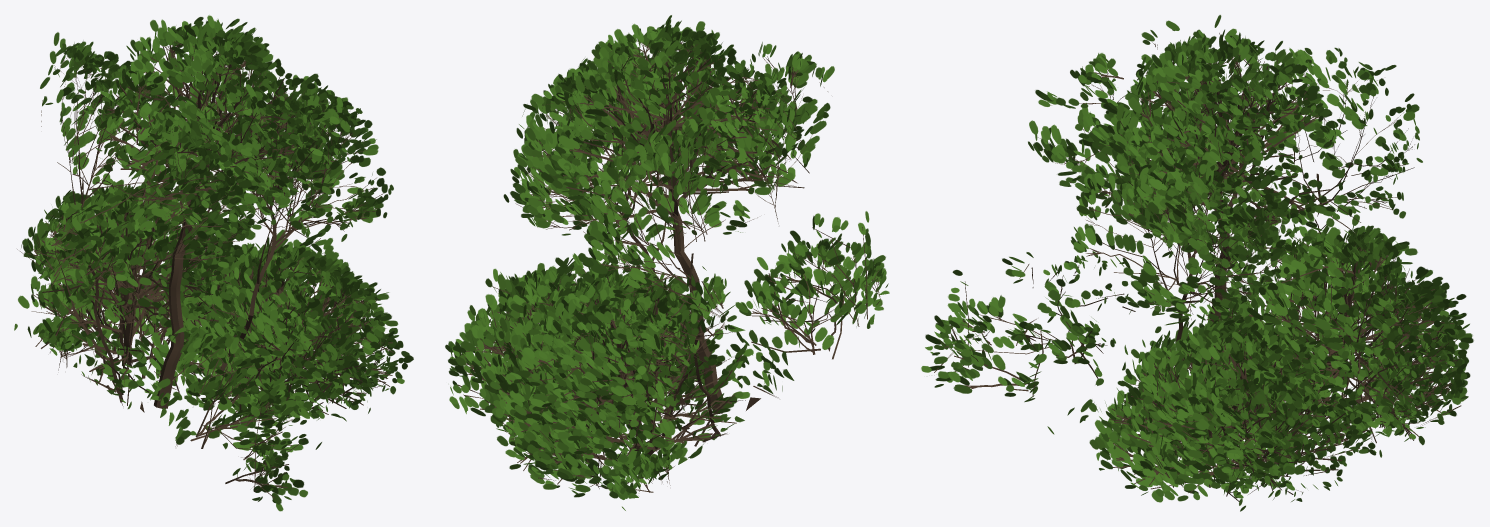
The picture shows the model from 3 angles, left to right: view 1: azimuth 30°, elevation 25°; view 2: azimuth 150°, elevation 25°; view 3: azimuth 270°, elevation 25°; orthographic projection. The views are drawn at different scales.
Parts seen in each view (by area): view 1: oak 01.001_trunk_Mat.001_0.460; view 2: oak 01.001_trunk_Mat.001_0.460; view 3: oak 01.001_trunk_Mat.001_0.460.
Part boxes in pixels (x1,y1,x2,y2): oak 01.001_trunk_Mat.001_0.460: [14, 15, 413, 511]; oak 01.001_trunk_Mat.001_0.460: [445, 15, 889, 510]; oak 01.001_trunk_Mat.001_0.460: [921, 15, 1473, 511].
Bounding box in the file's own units: 3.16 × 4.05 × 5.02.
Materials: 2 (1 with a texture image).
